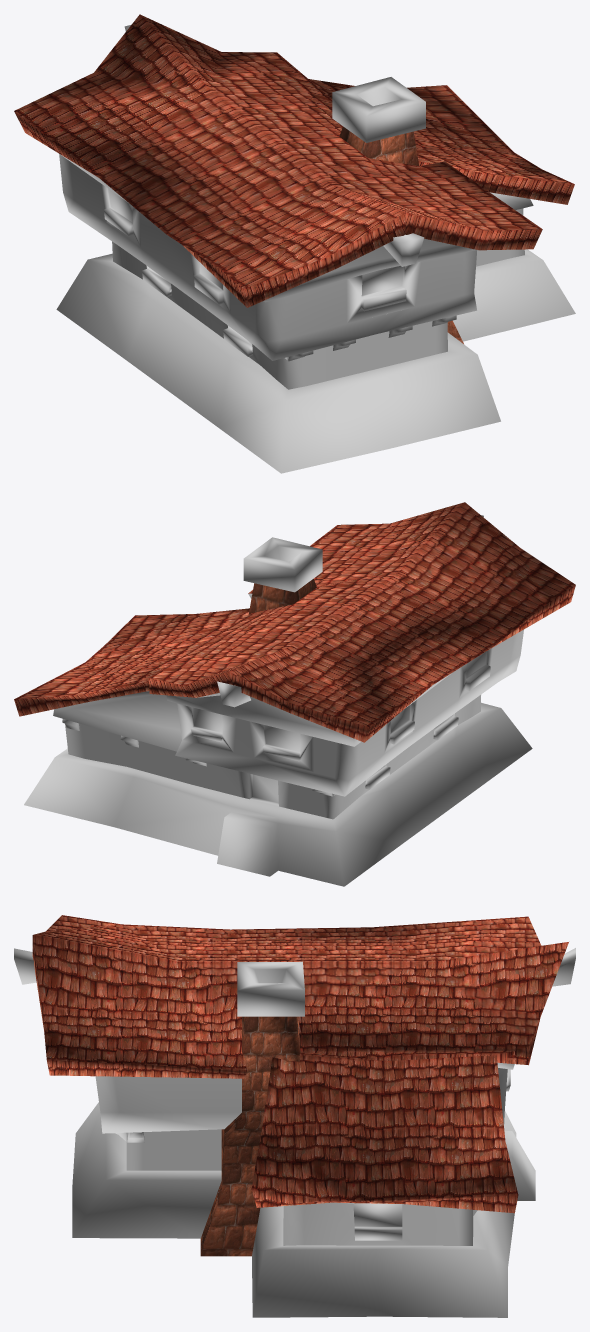
File: redridge_humantwostory.obj
3 views of the same model, one above another, from view 1: azimuth 30°, elevation 25°; view 2: azimuth 150°, elevation 25°; view 3: azimuth 270°, elevation 25° (orthographic). The views are drawn at different scales.
Parts seen in each view (by area): view 1: exterior; view 2: exterior, entrance; view 3: exterior.
Part boxes in pixels (x1,y1,x2,y2): exterior: (14,14,575,473); exterior: (14,502,575,886); entrance: (253,774,278,802); exterior: (14,915,575,1317).
Size of the model in its own units: 32.8 by 18.42 by 37.3.
